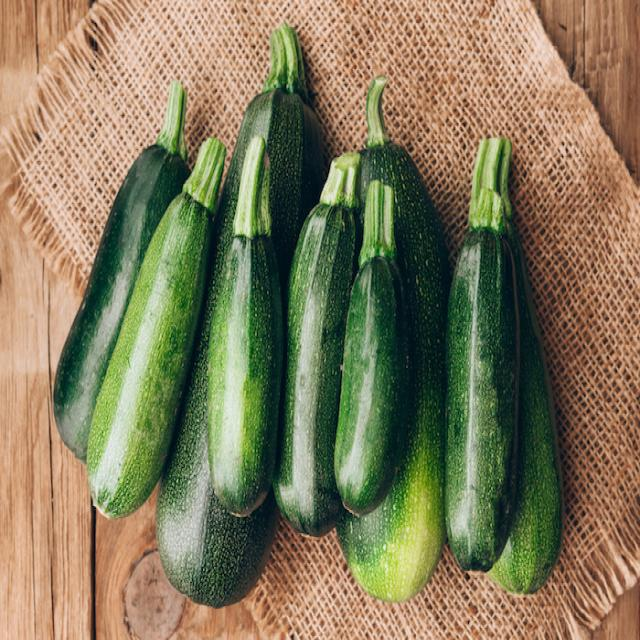Zucchini: (448, 107, 523, 580)
